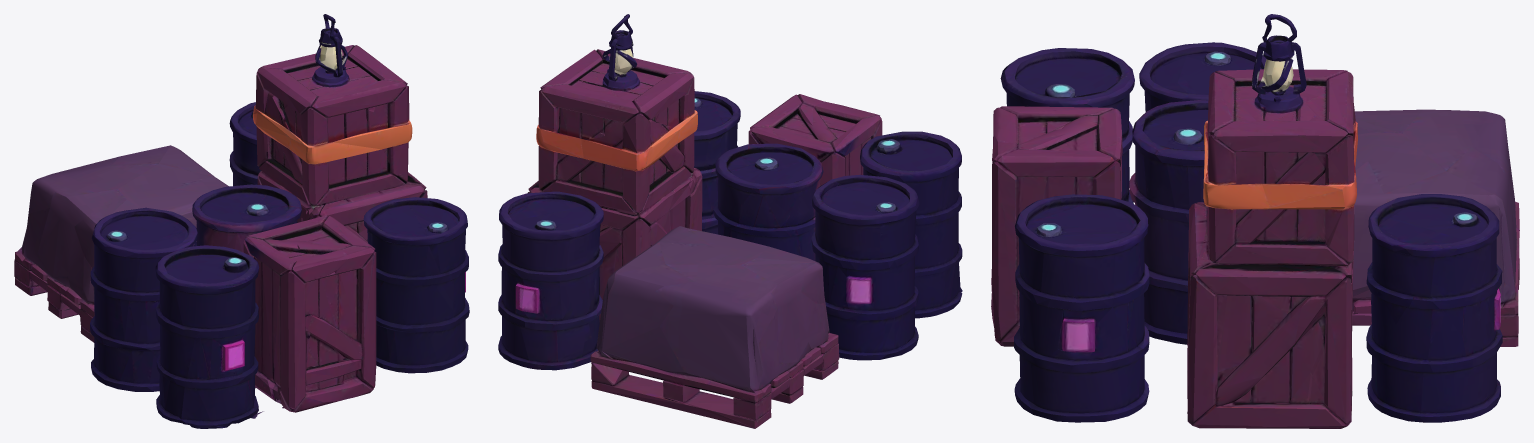
The model's file is prop-crates.glb.
3 views of the same model, side by side, from view 1: azimuth 30°, elevation 25°; view 2: azimuth 150°, elevation 25°; view 3: azimuth 270°, elevation 25° (orthographic). The views are drawn at different scales.
Parts seen in each view (by area): view 1: output_unwrapped; view 2: output_unwrapped; view 3: output_unwrapped.
Part boxes in pixels (left/top/right/bottom): output_unwrapped: left=14, top=14, right=469, bottom=428; output_unwrapped: left=498, top=14, right=962, bottom=428; output_unwrapped: left=991, top=14, right=1519, bottom=428.
Bounding box in the file's own units: 1.77 × 1.48 × 1.9.
1 material, 1 textured.
